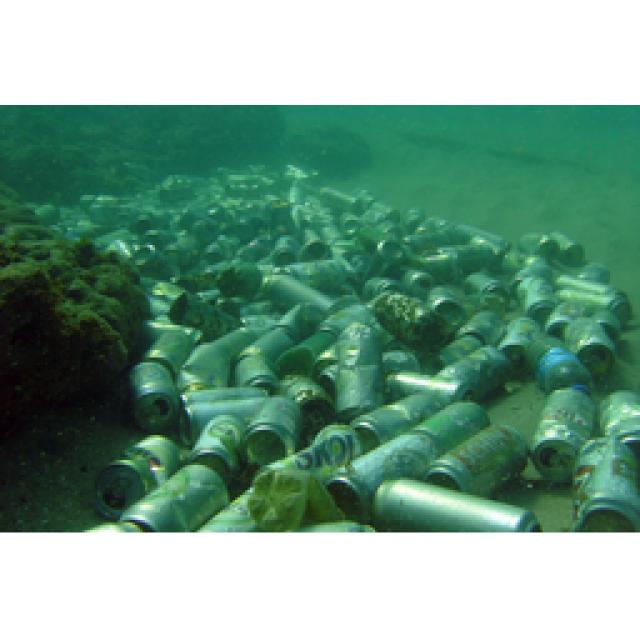alumunium: (164, 291, 640, 524), (128, 181, 382, 277)
